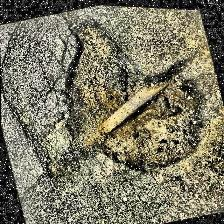pothole: (39, 2, 221, 192)
